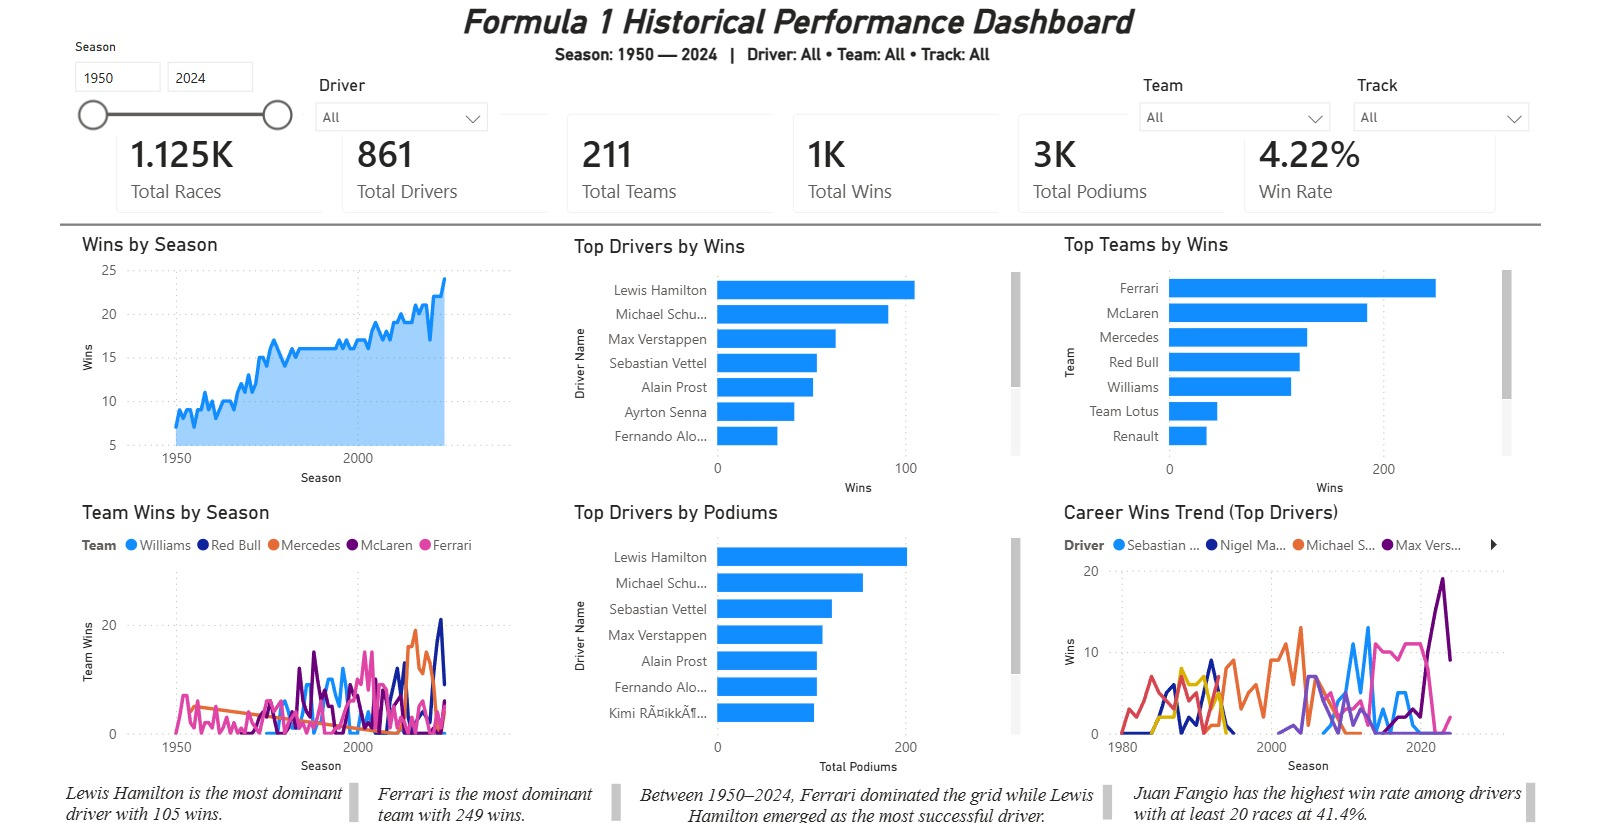

This screenshot's page, from the dashboard's own definition file:
{"tool":"powerbi","page":{"name":"Dashboard","canvas":[1280,720],"ordinal":0},"visuals":[{"type":"cardVisual","fields":{"Data":["Count(Race Result Enriched.race_id)"]},"box":[31.4,85,280.1,120.6],"z":0},{"type":"cardVisual","fields":{"Data":["Count(Race Result Enriched.driver_id)"]},"box":[226.4,85,280.1,120.6],"z":1000},{"type":"cardVisual","fields":{"Data":["Count(Race Result Enriched.constructor_id)"]},"box":[421.3,85,280,120],"z":2000},{"type":"cardVisual","fields":{"Data":["Sum(Race Result Enriched.win_flag)"]},"box":[616.1,85,280.1,120.6],"z":3000},{"type":"cardVisual","fields":{"Data":["Sum(Race Result Enriched.podium_flag)"]},"box":[811.1,85,280.1,120.6],"z":4000},{"type":"cardVisual","fields":{"Data":["Race Result Enriched.Driver Win Rate"]},"box":[1006,85,252.9,120.6],"z":5000},{"type":"lineChart","title":"Wins by Season","fields":{"Category":["Race Result Enriched.race_year"],"Y":["Sum(Race Result Enriched.win_flag)"]},"box":[14,203.8,386.7,222.8],"z":6000},{"type":"lineChart","title":"Team Wins by Season","fields":{"Category":["Race Result Enriched.race_year"],"Y":["Sum(Race Result Enriched.win_flag)"],"Series":["Constructors.team_name"]},"box":[14,435.7,386.7,240.8],"z":7000},{"type":"clusteredBarChart","title":"Top Drivers by Wins","fields":{"Category":["Race Result Enriched.driver_name"],"Y":["Sum(Race Result Enriched.win_flag)"]},"box":[438.7,205.8,395.7,229.8],"z":8000},{"type":"clusteredBarChart","title":"Top Drivers by Podiums","fields":{"Category":["Race Result Enriched.driver_name"],"Y":["Sum(Race Result Enriched.podium_flag)"]},"box":[438.7,435.7,395.7,240.8],"z":9000},{"type":"barChart","title":"Top Teams by Wins","fields":{"Category":["Race Result Enriched.team_name"],"Y":["Sum(Race Result Enriched.win_flag)"]},"box":[862.3,203.8,396.7,231.8],"z":10000},{"type":"lineChart","title":"Career Wins Trend (Top Drivers)","fields":{"Category":["Driver Season Summary.race_year"],"Y":["Sum(Driver Season Summary.wins)"],"Series":["Driver Season Summary.driver_name"]},"box":[862.3,435.7,395.7,240.8],"z":11000},{"type":"slicer","fields":{"Values":["Races.race_year"]},"box":[0,33,209,87],"z":12000},{"type":"slicer","fields":{"Values":["Race Result Enriched.driver_name"]},"box":[211,64,169,56],"z":13000},{"type":"slicer","fields":{"Values":["Race Result Enriched.track_name"]},"box":[1108,64,172,56],"z":14000},{"type":"textbox","box":[289,0,696,46],"z":15000},{"type":"shape","box":[0,190,1280,15],"z":16000},{"type":"textbox","box":[219,36,794,28],"z":17000},{"type":"slicer","fields":{"Values":["Race Result Enriched.team_name"]},"box":[923,64,185,59],"z":18000},{"type":"textbox","box":[0,675,263,45],"z":19000},{"type":"textbox","box":[270,676,220,44],"z":20000},{"type":"textbox","box":[923,675,357,45],"z":21000},{"type":"textbox","box":[488,677,426,43],"z":22000}]}

Visuals, with their boxes on the page's 1280x720 design canvas (x1, y1, x2, y2). These are canvas units, not pixel positions in the 1597x828 screenshot, which may show the page scaled, cropped or inside an application window:
cardVisual - Count(Race Result Enriched.race_id): [31,85,312,206]
cardVisual - Count(Race Result Enriched.driver_id): [226,85,506,206]
cardVisual - Count(Race Result Enriched.constructor_id): [421,85,701,205]
cardVisual - Sum(Race Result Enriched.win_flag): [616,85,896,206]
cardVisual - Sum(Race Result Enriched.podium_flag): [811,85,1091,206]
cardVisual - Race Result Enriched.Driver Win Rate: [1006,85,1259,206]
"Wins by Season" lineChart: [14,204,401,427]
"Team Wins by Season" lineChart: [14,436,401,676]
"Top Drivers by Wins" clusteredBarChart: [439,206,834,436]
"Top Drivers by Podiums" clusteredBarChart: [439,436,834,676]
"Top Teams by Wins" barChart: [862,204,1259,436]
"Career Wins Trend (Top Drivers)" lineChart: [862,436,1258,676]
slicer - Races.race_year: [0,33,209,120]
slicer - Race Result Enriched.driver_name: [211,64,380,120]
slicer - Race Result Enriched.track_name: [1108,64,1280,120]
textbox: [289,0,985,46]
shape: [0,190,1280,205]
textbox: [219,36,1013,64]
slicer - Race Result Enriched.team_name: [923,64,1108,123]
textbox: [0,675,263,720]
textbox: [270,676,490,720]
textbox: [923,675,1280,720]
textbox: [488,677,914,720]
